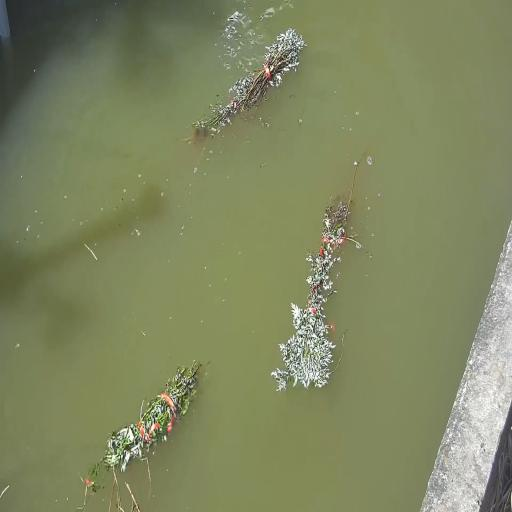twig: (269, 162, 364, 394), (77, 360, 204, 512), (187, 26, 309, 138)
